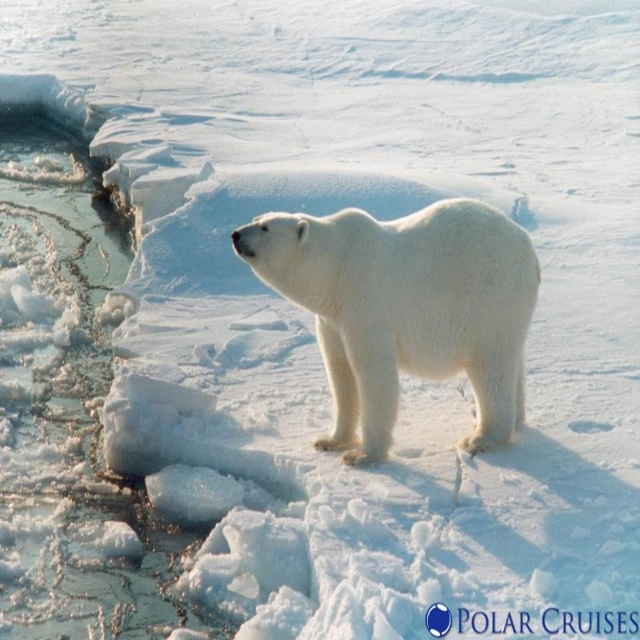Polar bear: (231, 204, 541, 470)
